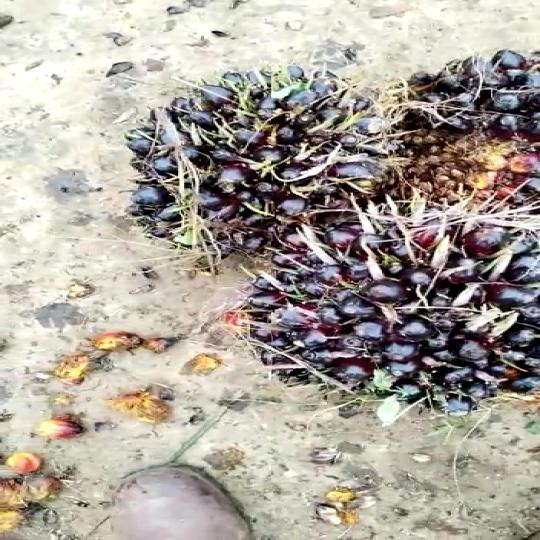mentah: (225, 210, 538, 400), (130, 60, 387, 252), (342, 39, 540, 231)
